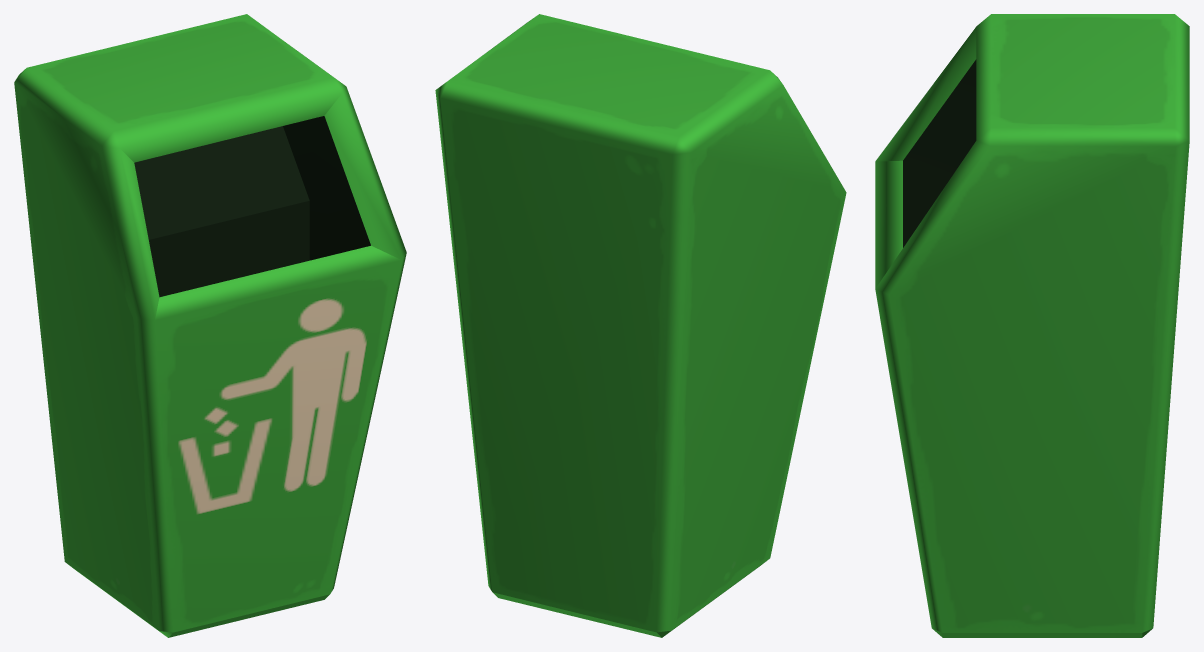
File: poubelle.fbx
3 renders of one model, left to right at view 1: azimuth 30°, elevation 25°; view 2: azimuth 150°, elevation 25°; view 3: azimuth 270°, elevation 25°, orthographic. The views are drawn at different scales.
Visible parts, largest first — view 1: poubelle; view 2: poubelle; view 3: poubelle.
Boxes of the visible parts, box(x1,y1,x2,y2) form: poubelle: box(14, 14, 406, 637); poubelle: box(435, 14, 846, 637); poubelle: box(875, 14, 1189, 637).
Size of the model in its own units: 36.95 by 65.07 by 35.21.
